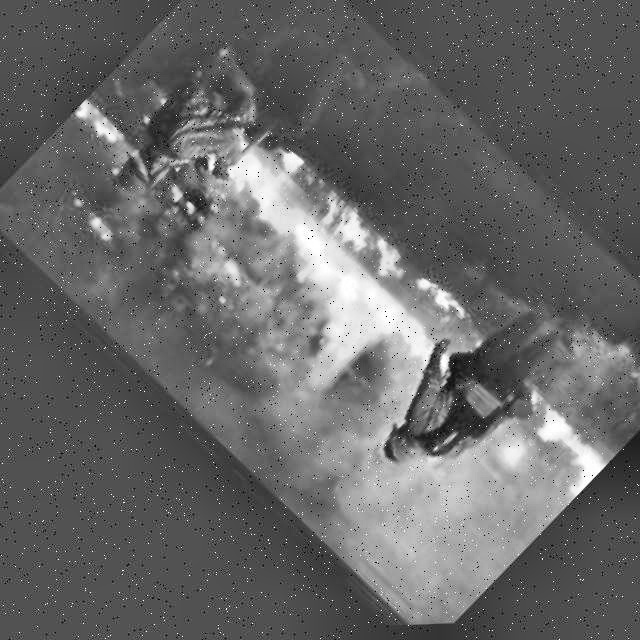Fire: (128, 99, 490, 471), (470, 388, 610, 532)
Smoke: (281, 379, 551, 632)
